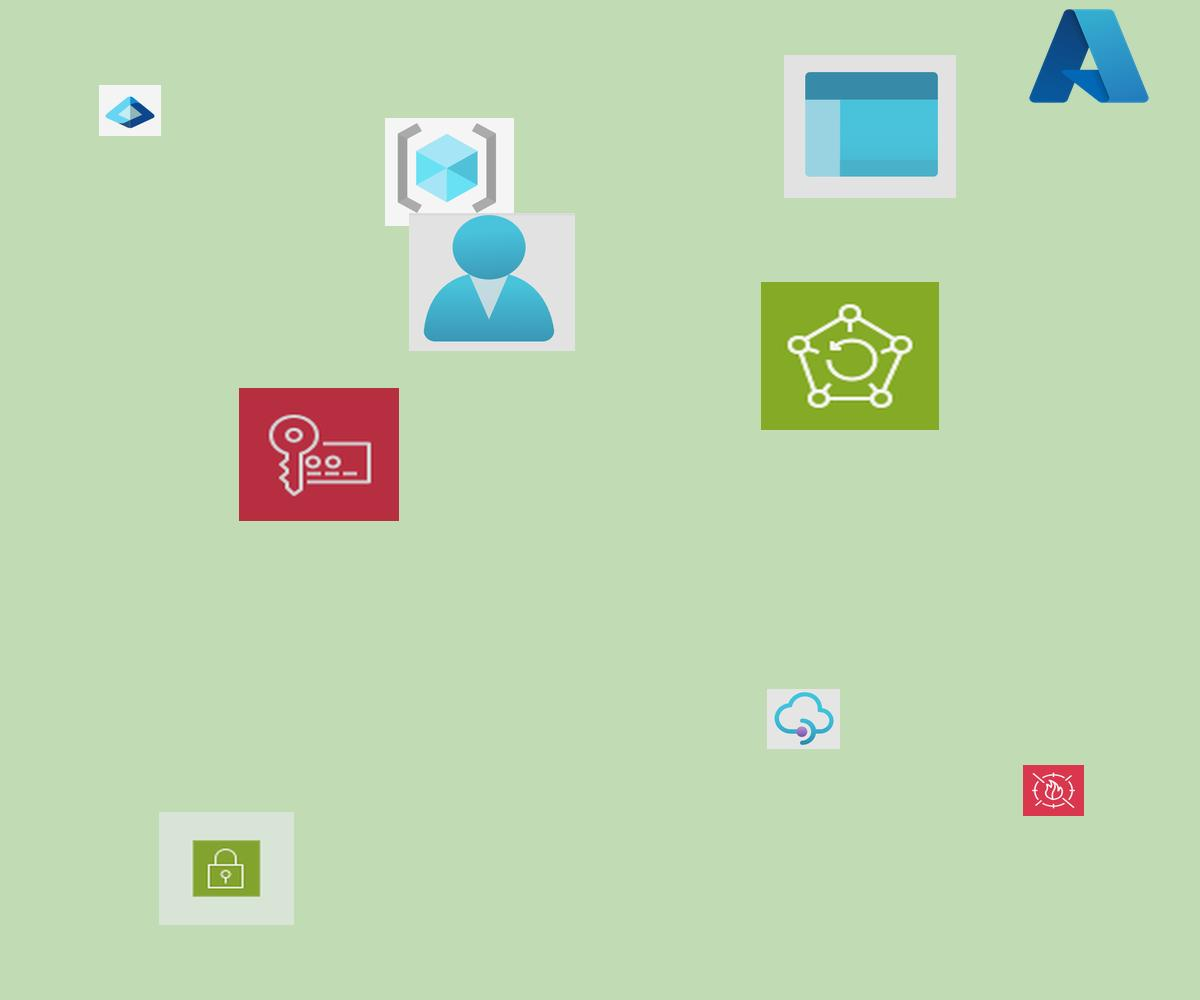AWS-Backup: (761, 282, 939, 430)
AWS-Key-Management-Service: (239, 388, 399, 521)
AWS-Public-subnet: (159, 812, 294, 925)
AWS-WAF: (1023, 765, 1084, 816)
Azure_api_gateway: (767, 689, 840, 749)
Azure_management-portal: (784, 55, 956, 198)
Azure_microsoft_entra: (99, 85, 161, 136)
Azure_resource_group: (385, 118, 514, 226)
Azure_services: (1024, 2, 1154, 110)
Azure_users: (409, 213, 575, 351)
